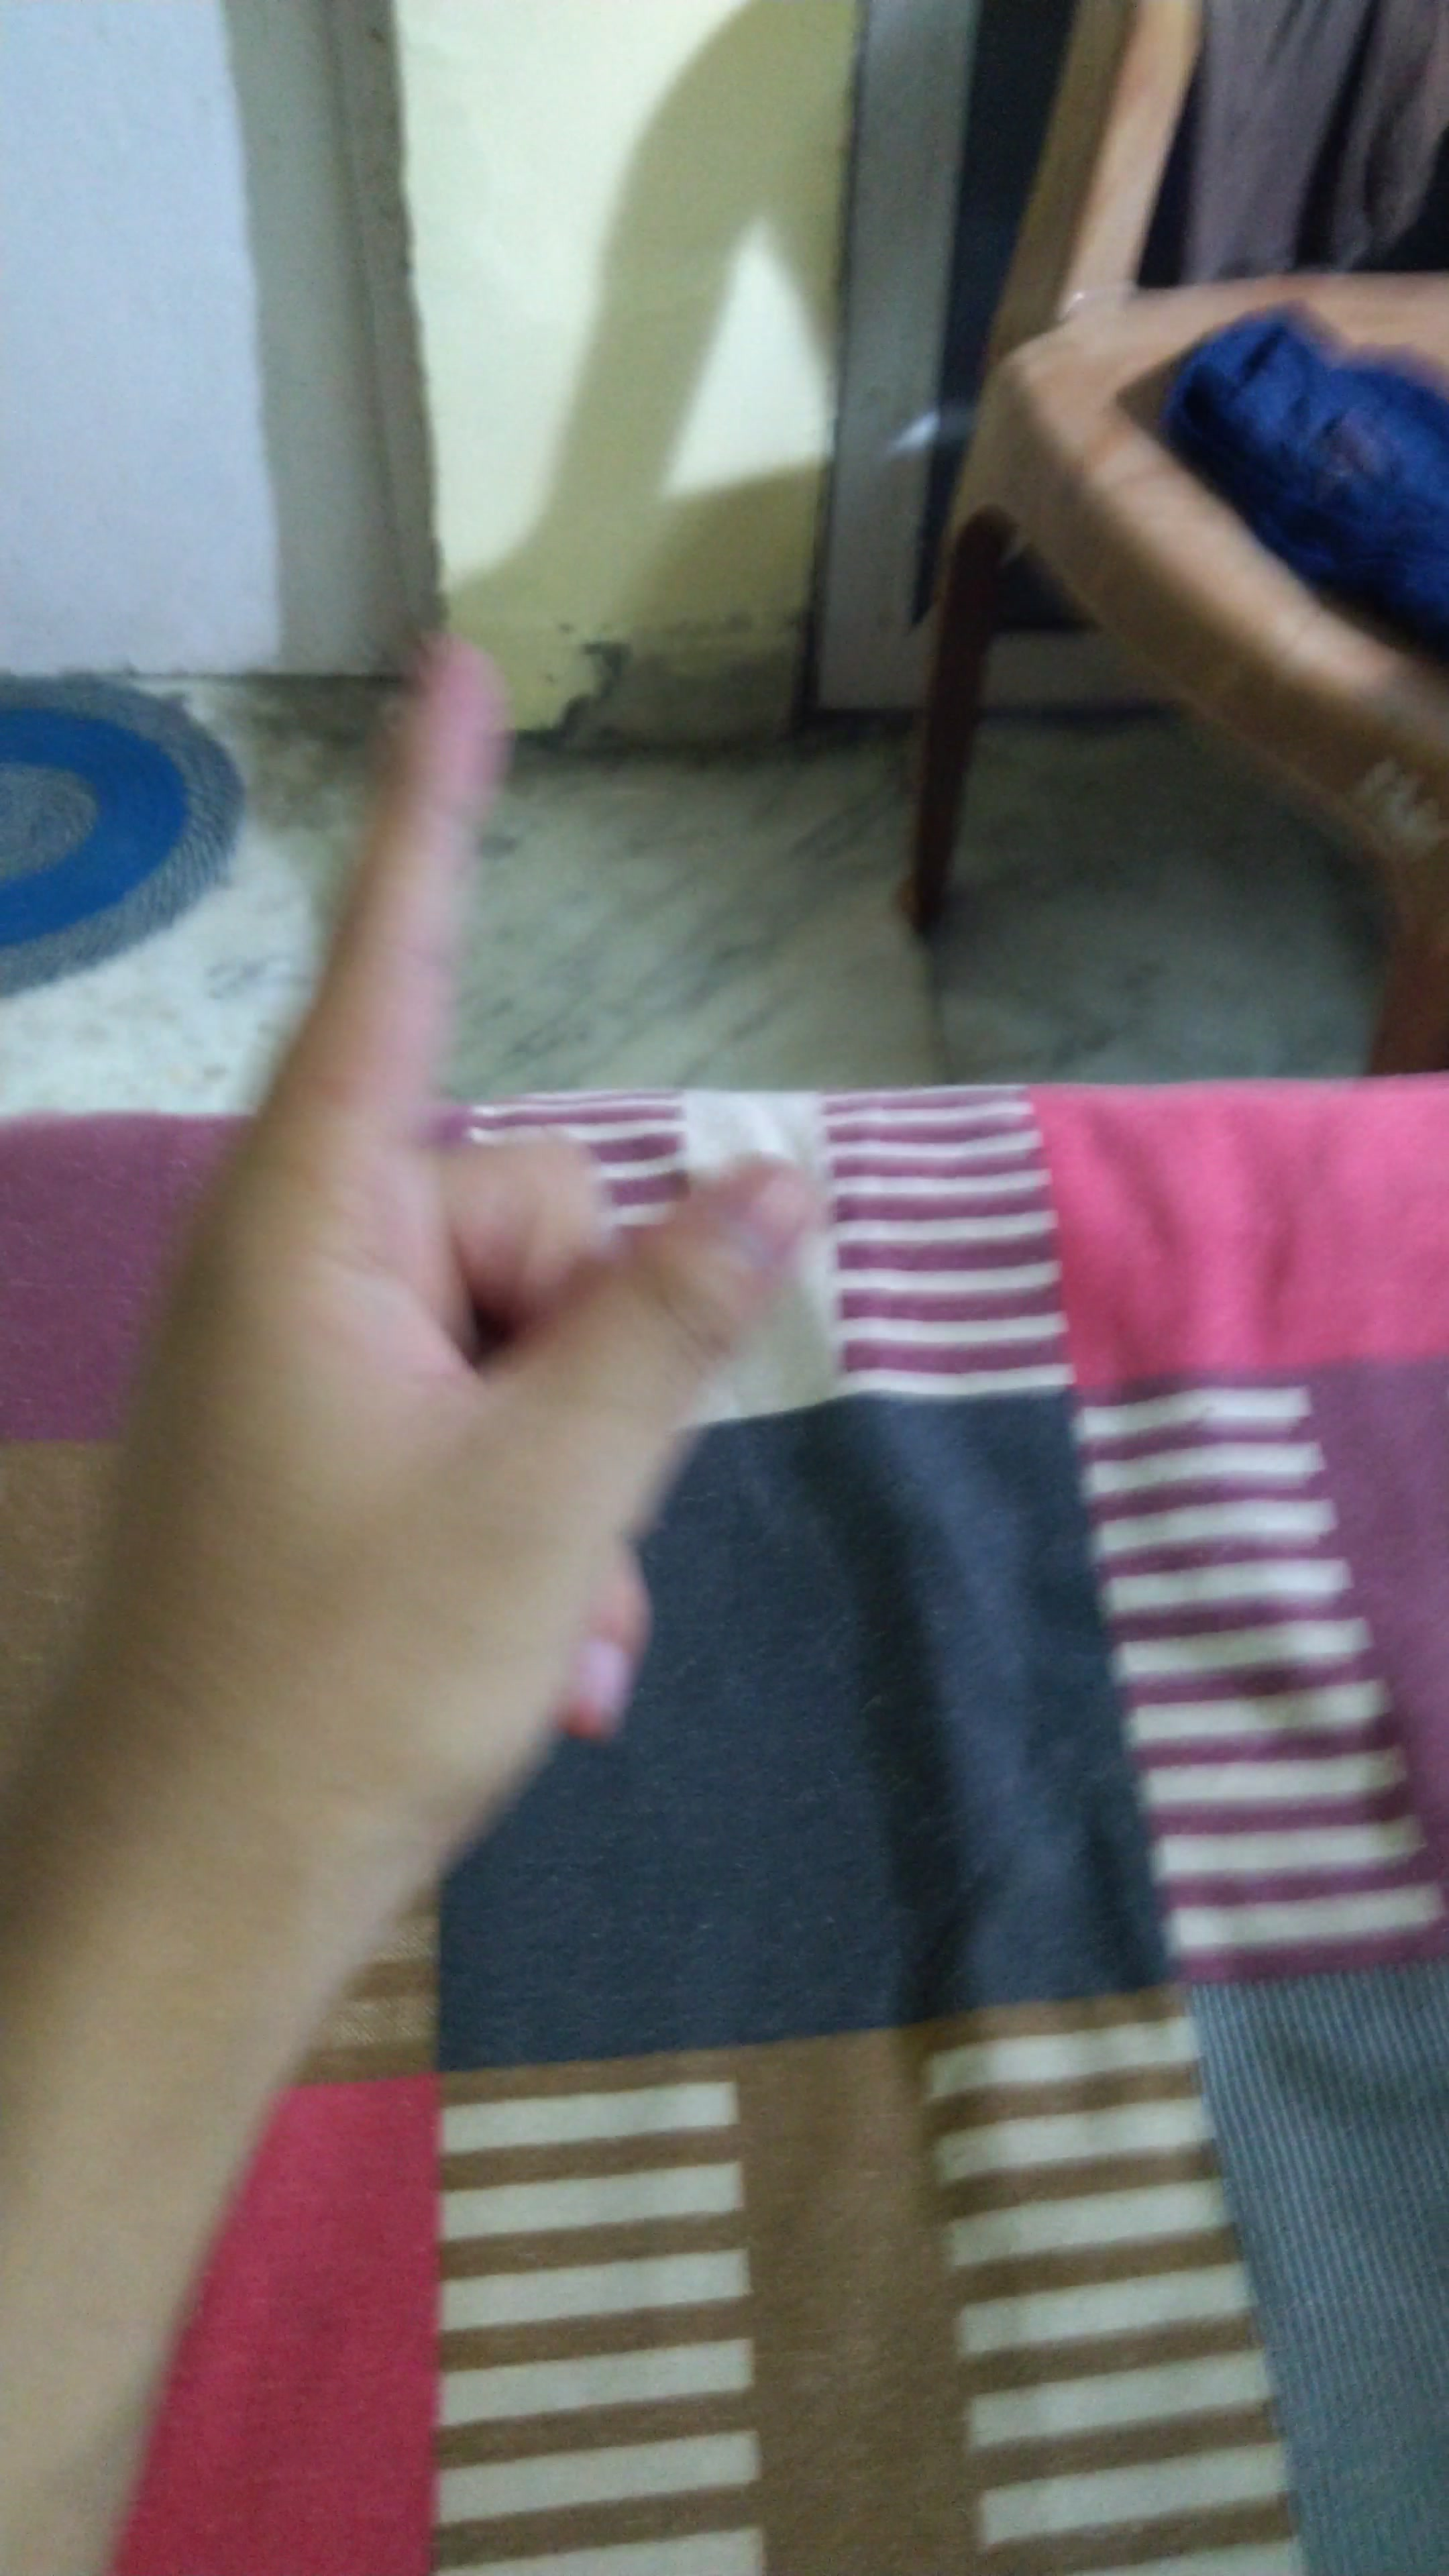hand: (55, 586, 924, 1923)
